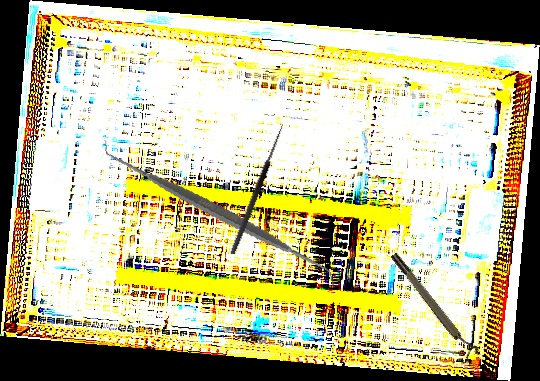Fixation Ring: (388, 247, 481, 362)
Hook Surgical: (223, 120, 286, 256)
Spatula Surgical: (103, 99, 336, 328)
